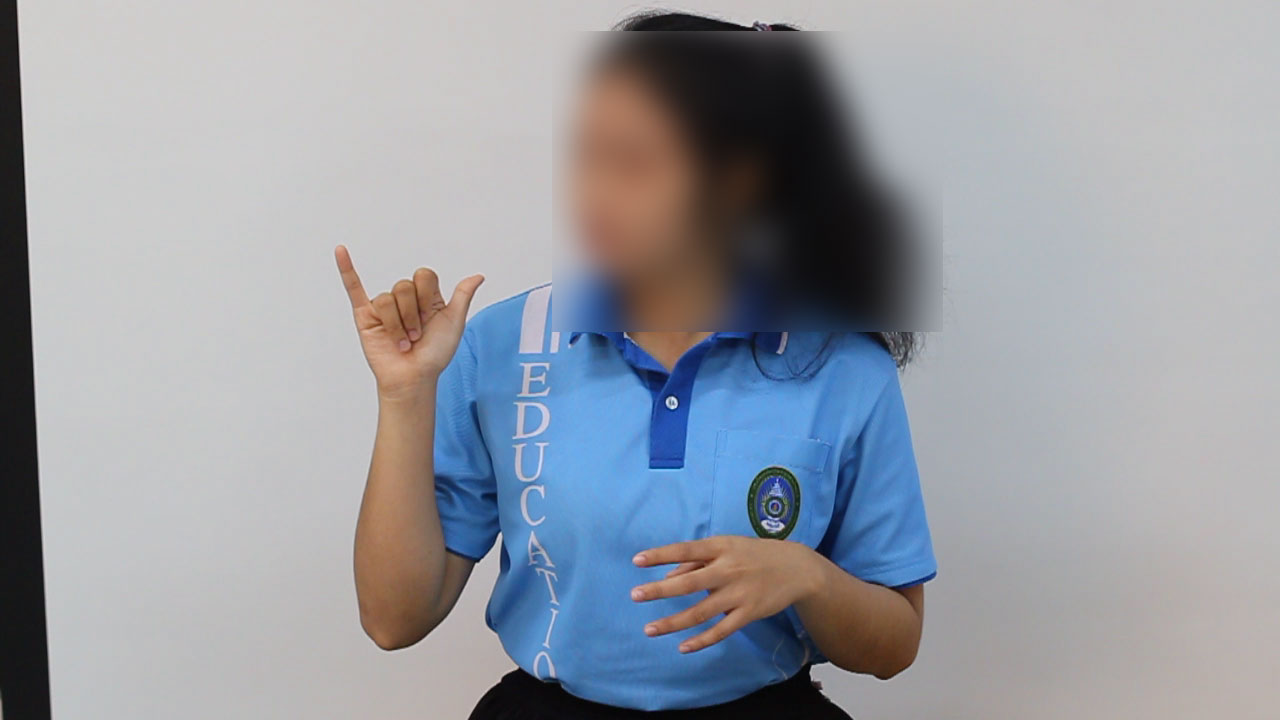yor: (321, 240, 499, 407)
